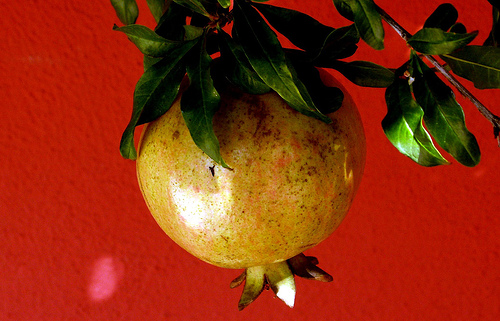pomogranate: (137, 43, 366, 312)
